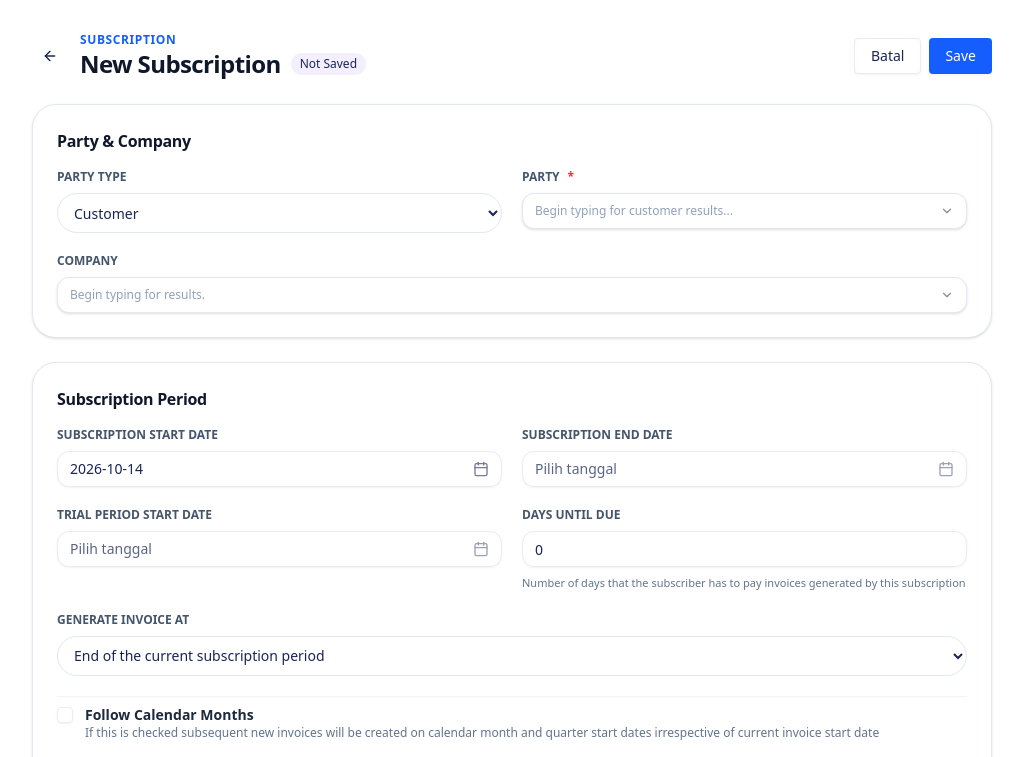
Test: SubscriptionPage › renders form and switches party options between Customer and Supplier
Later steps or results of the test are not shown.
Expected: the heading "New Subscription" is shown, [80, 48, 281, 80]
Expected: the text "Not Saved" is shown, [291, 53, 366, 75]
// Open party dropdown and verify customer is present
Click the button "Begin typing for customer results..." at (634,210), box [522, 193, 967, 229]
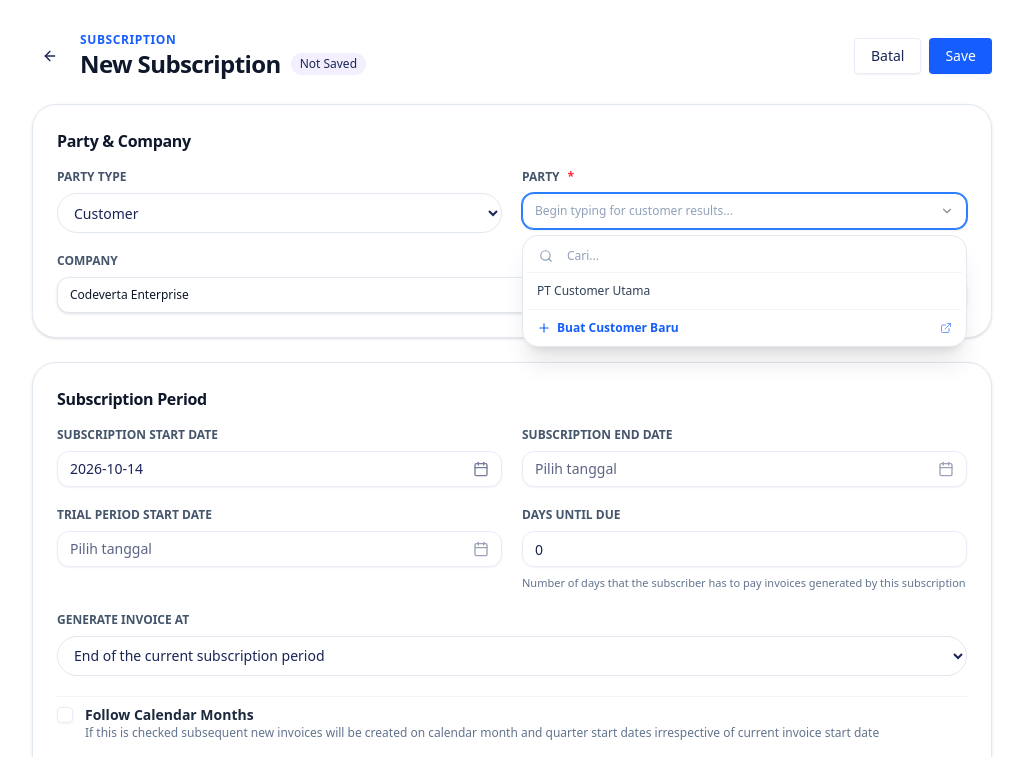
Expected: the text "PT Customer Utama" is shown, [537, 283, 650, 299]
// Select customer
Click the button "PT Customer Utama" at (594,290), box [527, 277, 962, 305]
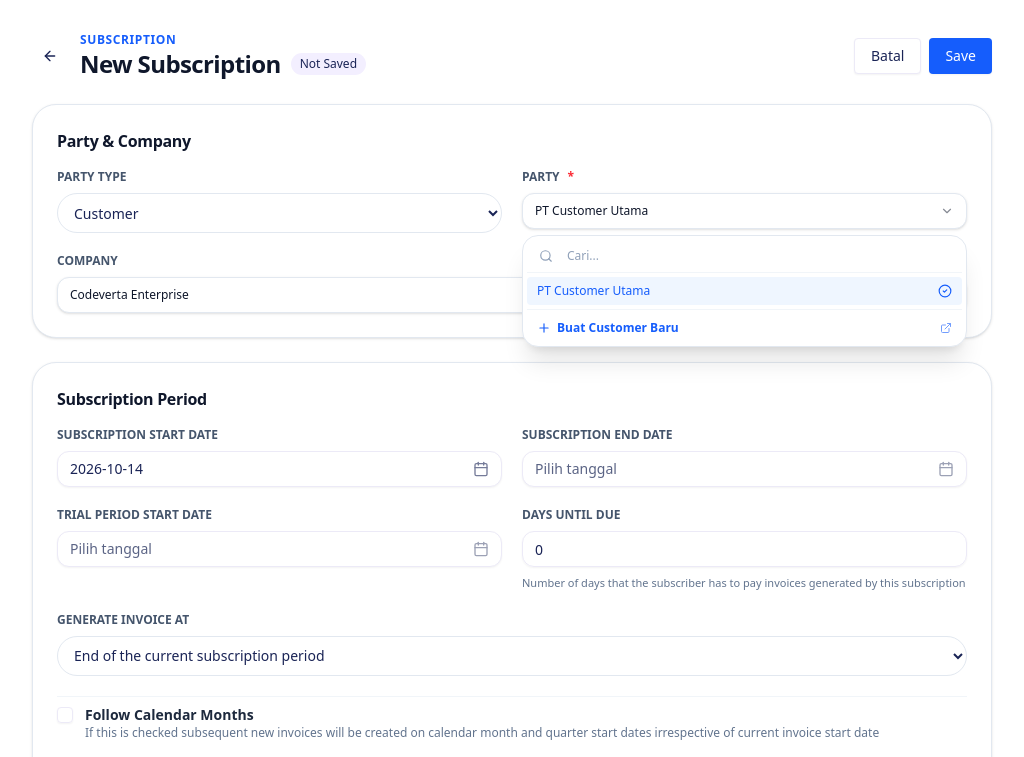
// Now change party type to Supplier
Select "Supplier" in the dropdown labelled "Party Type" at (280,213), box [57, 193, 502, 233]
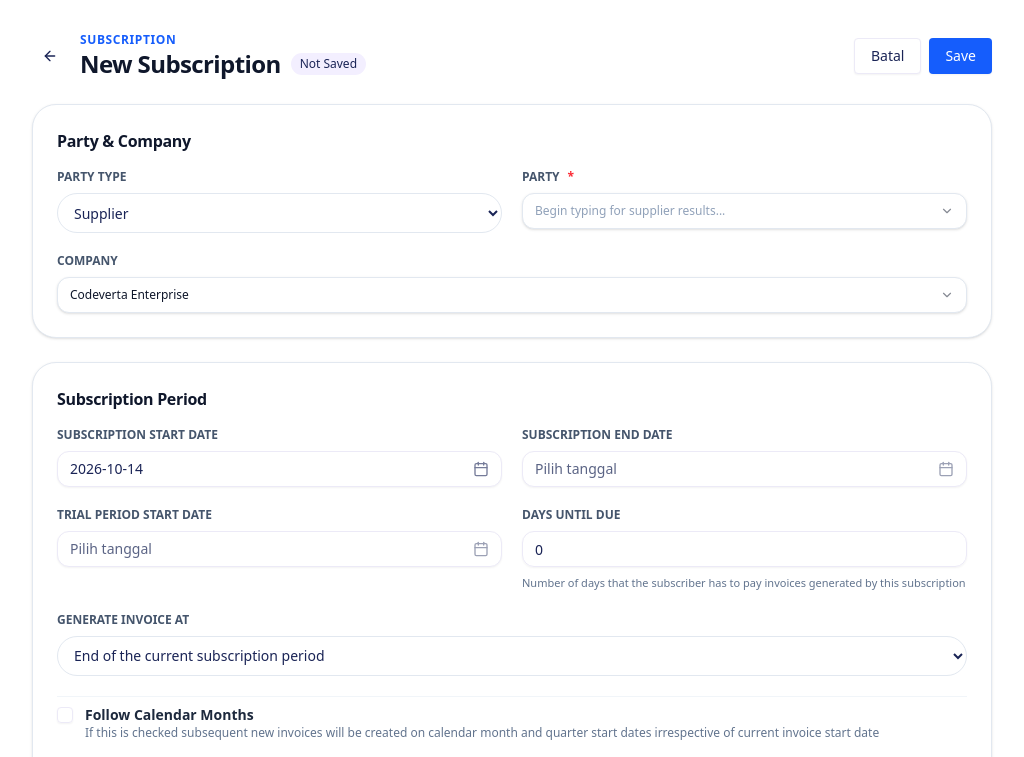
// Click party trigger for supplier
Click the button "Begin typing for supplier results..." at (630,210), box [522, 193, 967, 229]
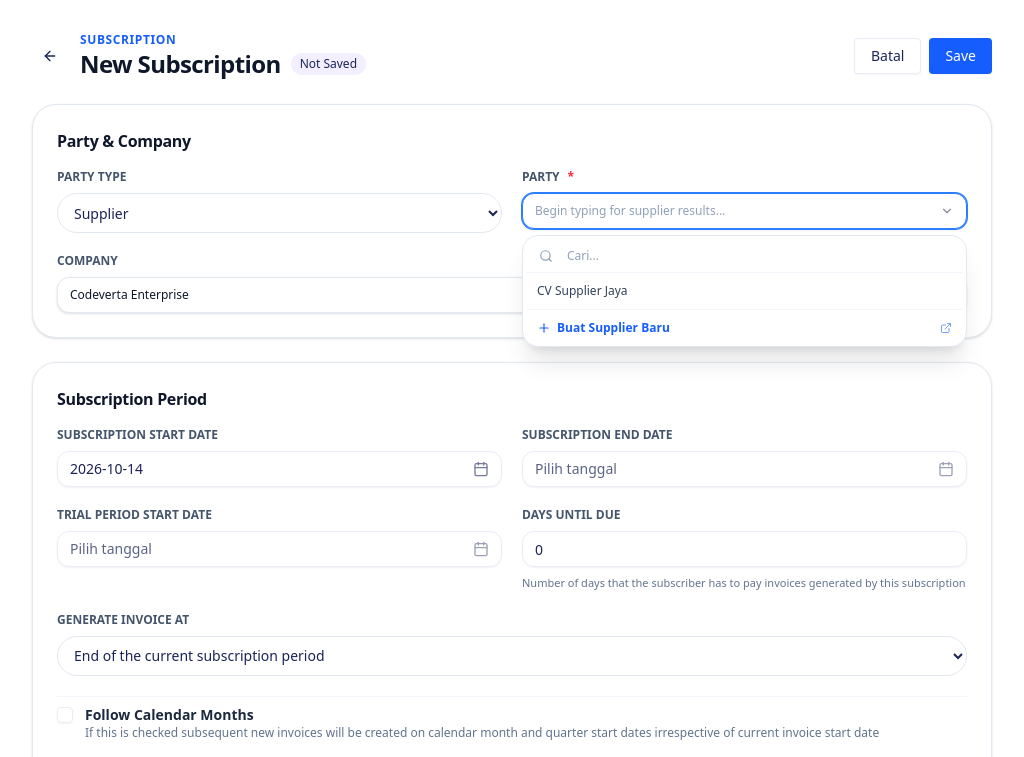
Expected: the text "CV Supplier Jaya" is shown, [537, 283, 628, 299]
